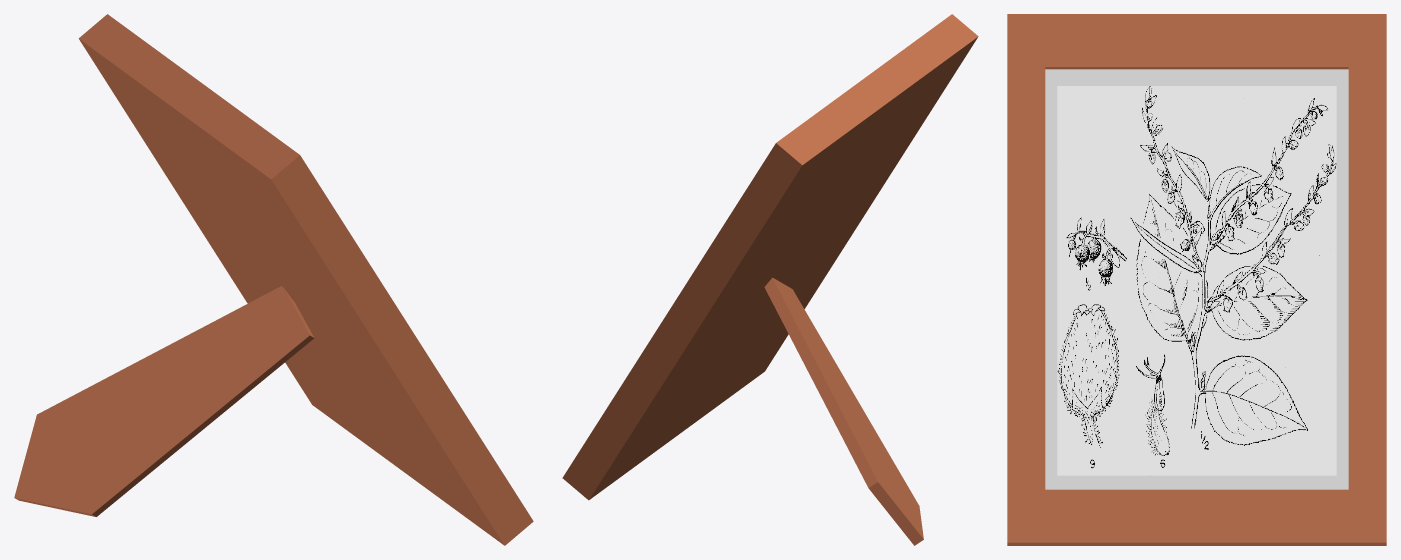
File: picture-frame-2-1.glb
3 renders of one model, left to right at view 1: azimuth 30°, elevation 25°; view 2: azimuth 150°, elevation 25°; view 3: azimuth 270°, elevation 25°, orthographic. The views are drawn at different scales.
Visible parts, largest first — view 1: Plane, Plane.001; view 2: Plane, Plane.001; view 3: Plane.
Part boxes in pixels (left/top/right/bottom): Plane: left=78, top=14, right=533, bottom=545; Plane.001: left=14, top=286, right=314, bottom=516; Plane: left=562, top=14, right=978, bottom=500; Plane.001: left=764, top=277, right=923, bottom=545; Plane: left=1007, top=14, right=1386, bottom=545.
Bounding box in the file's own units: 2.16 × 2.52 × 2.
Materials: 3 (1 with a texture image).
